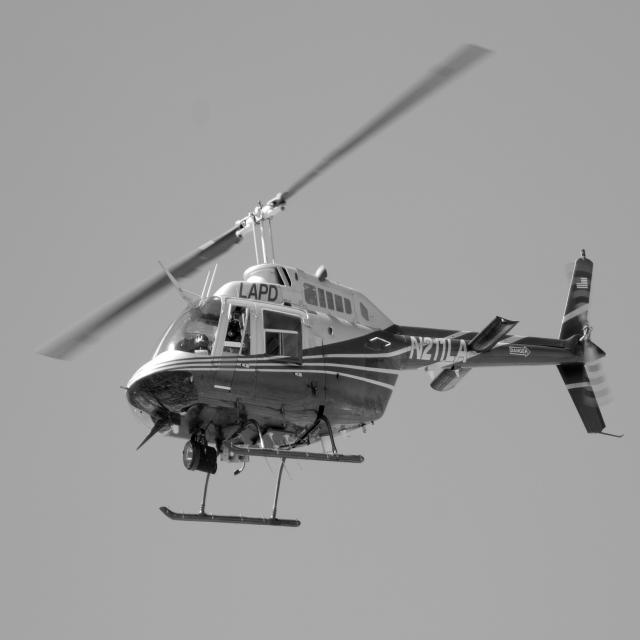helicopter: (41, 44, 621, 546)
